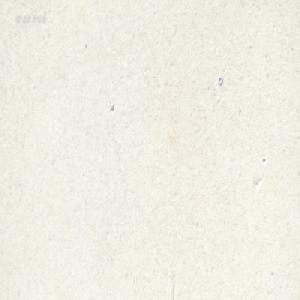Washer: (217, 74, 222, 84)
